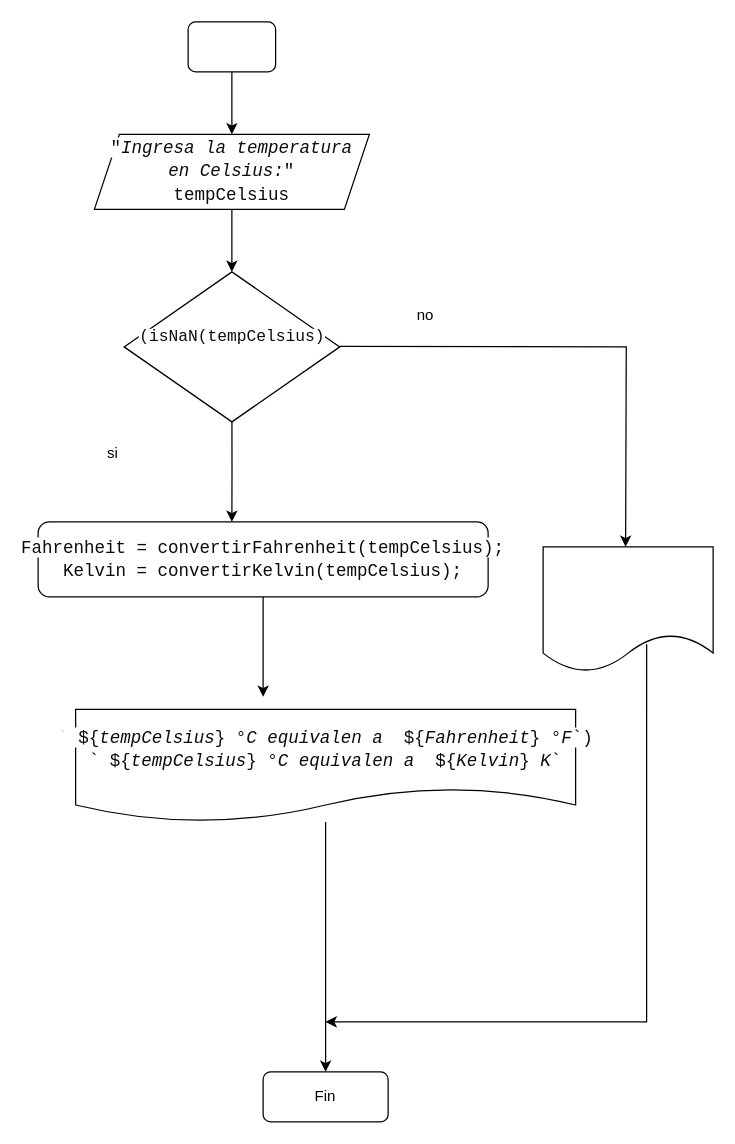
This 735x1144 diagram has some shape labels left out. The box of each missing label's shape, as (x1, y1, x2, y2) in pixels:
" Por favor ingresa un número válido: ": (542, 546, 713, 672)
Inicio: (187, 21, 276, 72)
